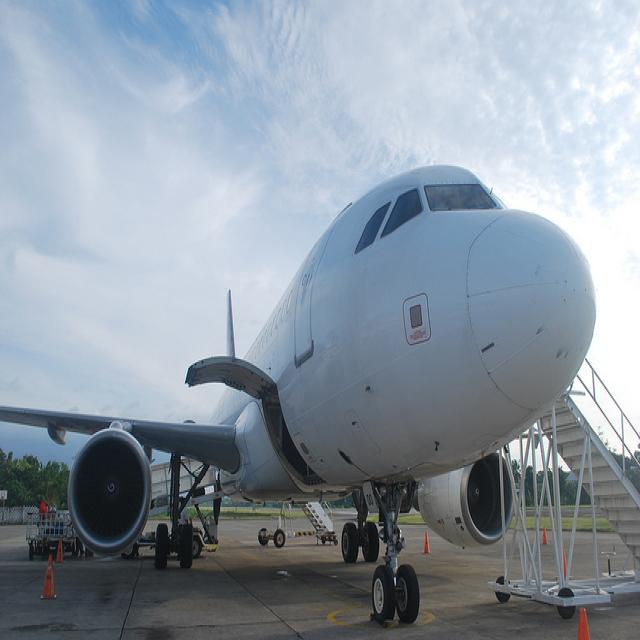airplane: (0, 160, 598, 627)
